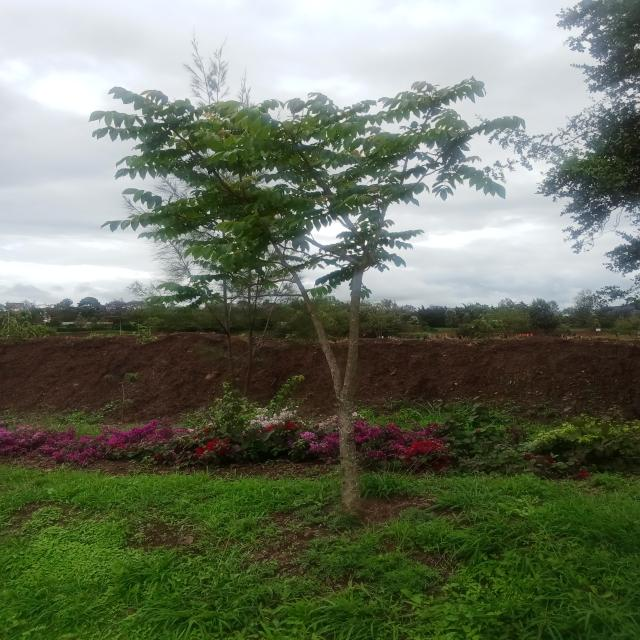Polyscias Kikuyensis: (87, 75, 547, 505)
